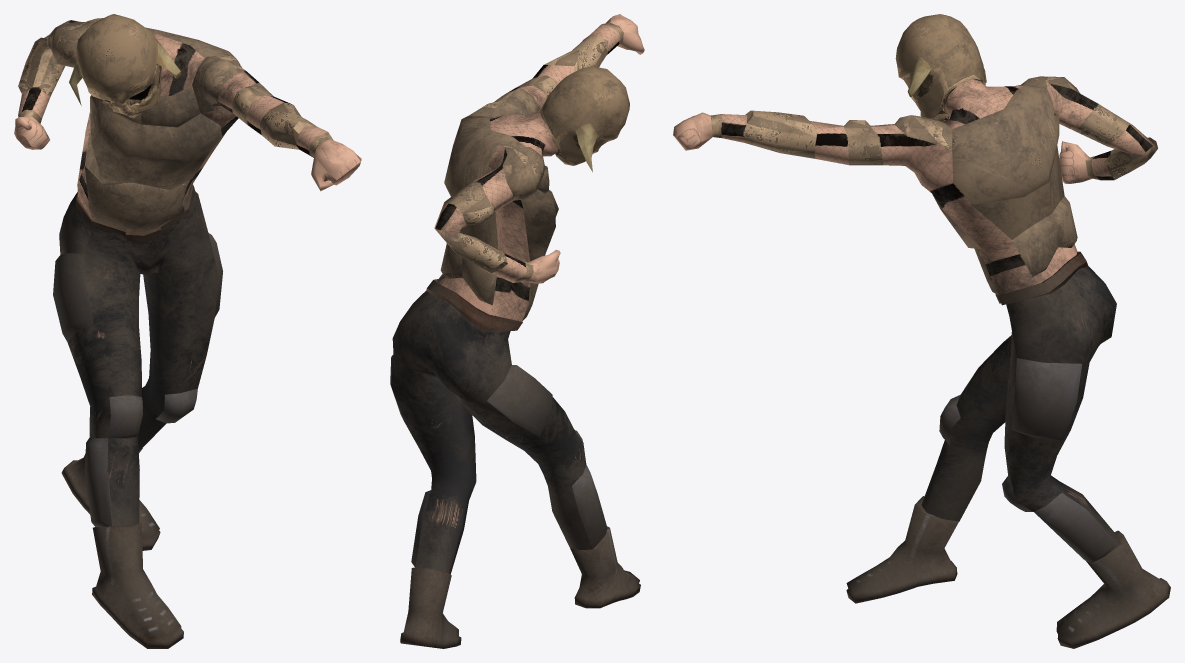
File: Anim_ataque_d3_npc1.0034.obj
The picture shows the model from 3 angles, left to right: view 1: azimuth 30°, elevation 25°; view 2: azimuth 150°, elevation 25°; view 3: azimuth 270°, elevation 25°; orthographic projection. The views are drawn at different scales.
Visible parts, largest first — view 1: NPC2; view 2: NPC2; view 3: NPC2.
Boxes of the visible parts, x1=… form: NPC2: x1=14, y1=14, x2=361, y2=648; NPC2: x1=390, y1=14, x2=644, y2=648; NPC2: x1=673, y1=14, x2=1170, y2=648.
Size of the model in its own units: 2.81 by 8.5 by 6.59.
